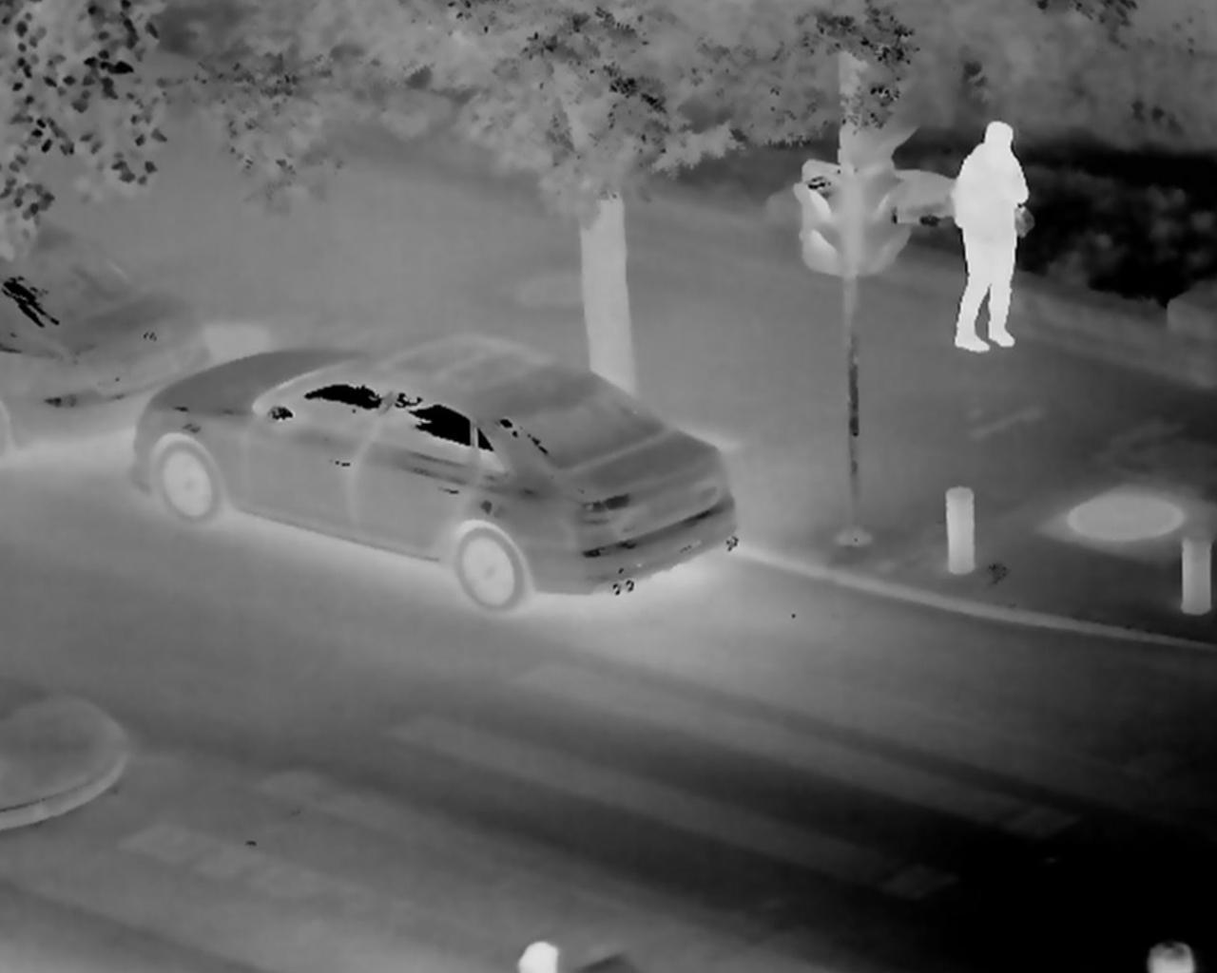person: (944, 105, 1030, 351)
